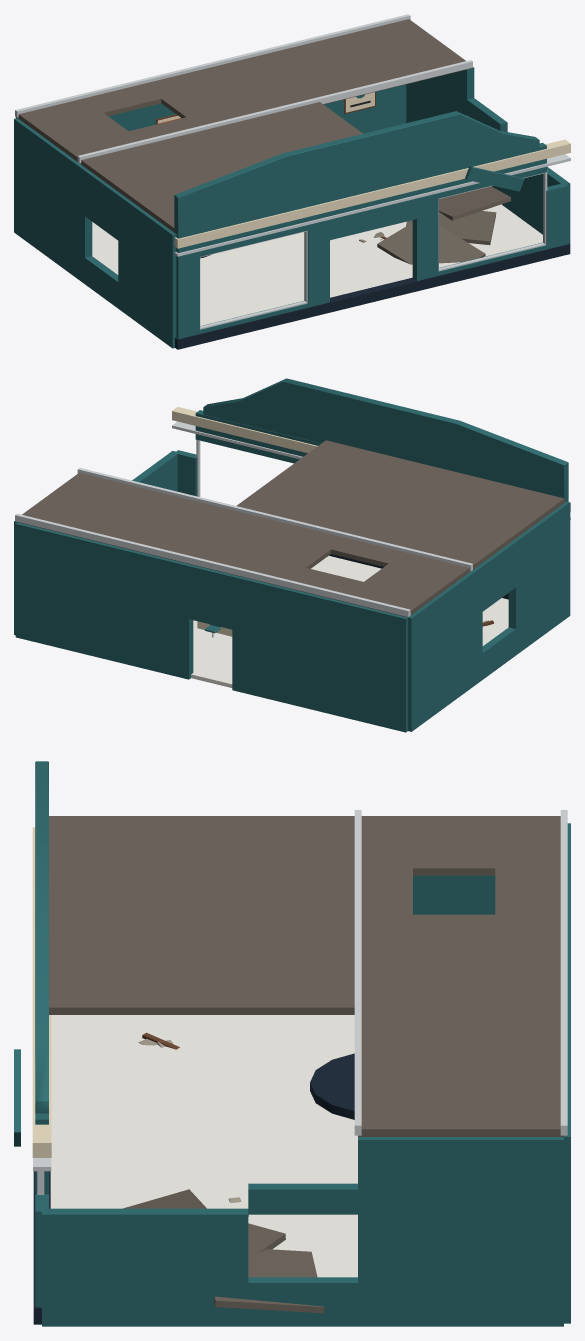
File: Bldg_Showroom.fbx
The picture shows the model from 3 angles, top to bottom: view 1: azimuth 30°, elevation 25°; view 2: azimuth 150°, elevation 25°; view 3: azimuth 270°, elevation 25°; orthographic projection. The views are drawn at different scales.
Parts seen in each view (by area): view 1: Roof, Decor, FalseFront, Floor, Wall13, Wall10, Wall17, Wall5, Wall6, Wall1, Wall4, Wall20 (+10 smaller); view 2: Roof, Wall20, Wall18, FalseFront, Wall13, Decor, Wall10, Floor, Wall19, Wall12, Wall8, Wall11 (+2 smaller); view 3: Roof, Floor, Wall17, Wall14, Decor, FalseFront, Wall15, Wall16, Wall13, Plinth, Wall20, Wall9.
Part boxes in pixels (box(x1,y1,x2,y2)): Roof: box(18, 19, 470, 233); Decor: box(15, 14, 570, 349); FalseFront: box(174, 111, 539, 235); Floor: box(92, 204, 542, 325); Wall13: box(14, 118, 92, 283); Wall10: box(118, 194, 176, 348); Wall17: box(406, 67, 474, 122); Wall5: box(330, 177, 416, 240); Wall6: box(412, 172, 438, 280); Wall1: box(176, 230, 199, 339); Wall4: box(304, 198, 329, 307); Wall20: box(323, 84, 406, 133); Roof: box(18, 440, 566, 617); Wall20: box(15, 522, 193, 679); Wall18: box(232, 575, 407, 732); FalseFront: box(203, 378, 568, 501); Wall13: box(408, 565, 482, 731); Decor: box(15, 407, 570, 637); Wall10: box(508, 501, 570, 655); Floor: box(191, 556, 508, 687); Wall19: box(189, 564, 233, 629); Wall12: box(479, 541, 515, 611); Wall8: box(195, 410, 304, 463); Wall11: box(482, 627, 515, 679); Roof: box(49, 816, 563, 1136); Floor: box(50, 1015, 357, 1277); Wall17: box(358, 1137, 563, 1326); Wall14: box(42, 1208, 248, 1326); Decor: box(14, 810, 567, 1324); FalseFront: box(35, 761, 48, 1113); Wall15: box(248, 1277, 357, 1326); Wall16: box(248, 1183, 357, 1214); Wall13: box(413, 875, 495, 914); Plinth: box(310, 1053, 354, 1119); Wall20: box(564, 997, 570, 1323); Wall9: box(35, 1194, 48, 1307).
Size of the model in its own units: 55.81 by 22.79 by 40.55.
